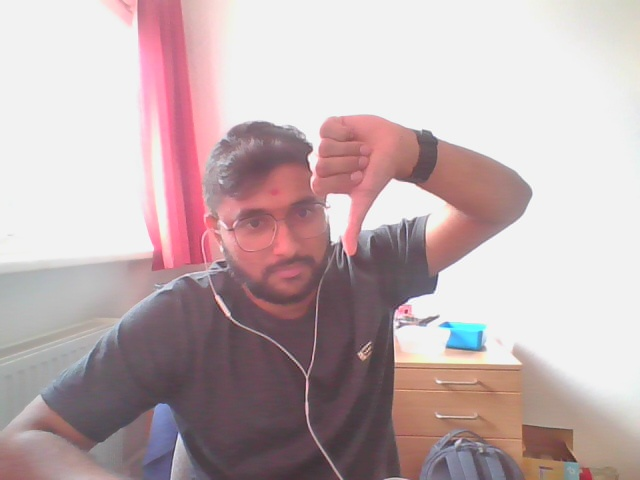ThumbsDown: (307, 112, 394, 255)
